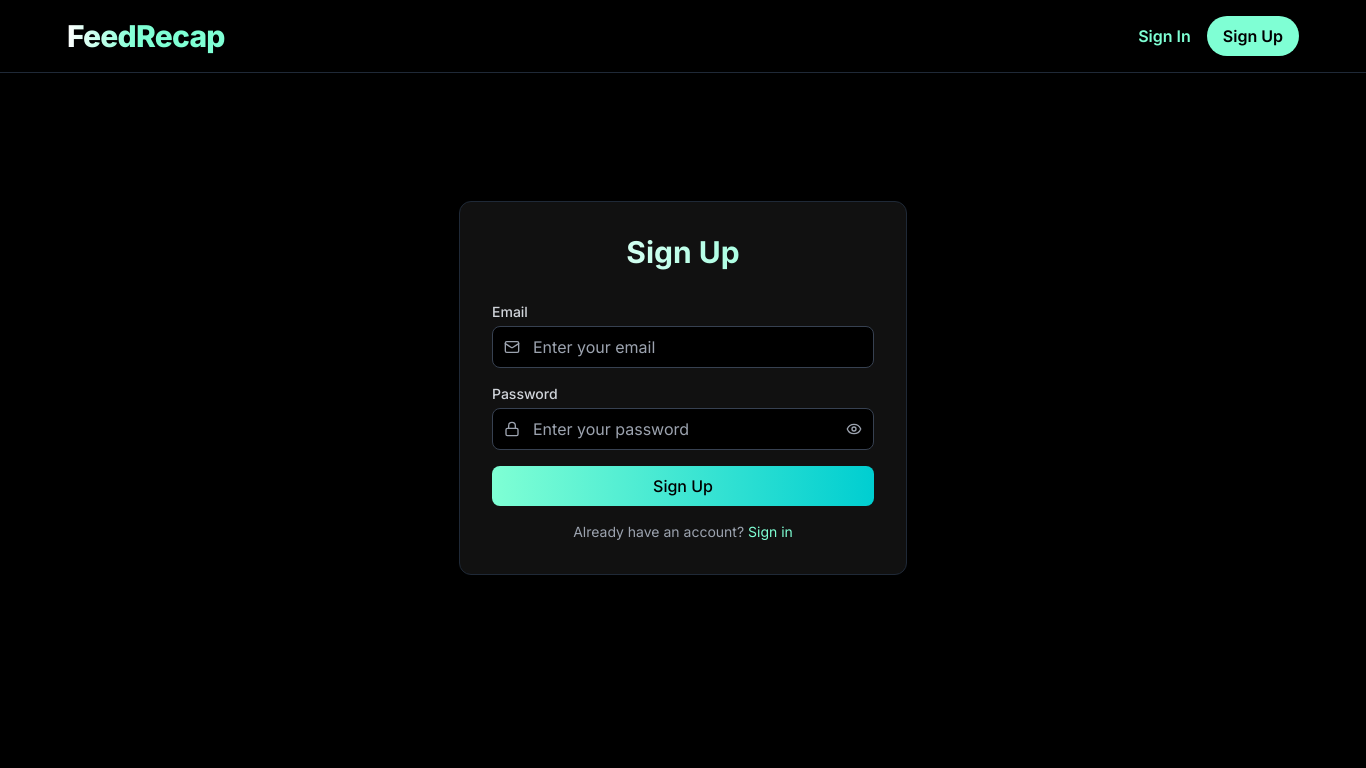
Test: Signup page › shows an already-registered error for an existing email
Step 1. Type "existing@example.com" into the field with placeholder "Enter your email" → (683, 347), box [492,326,874,368]
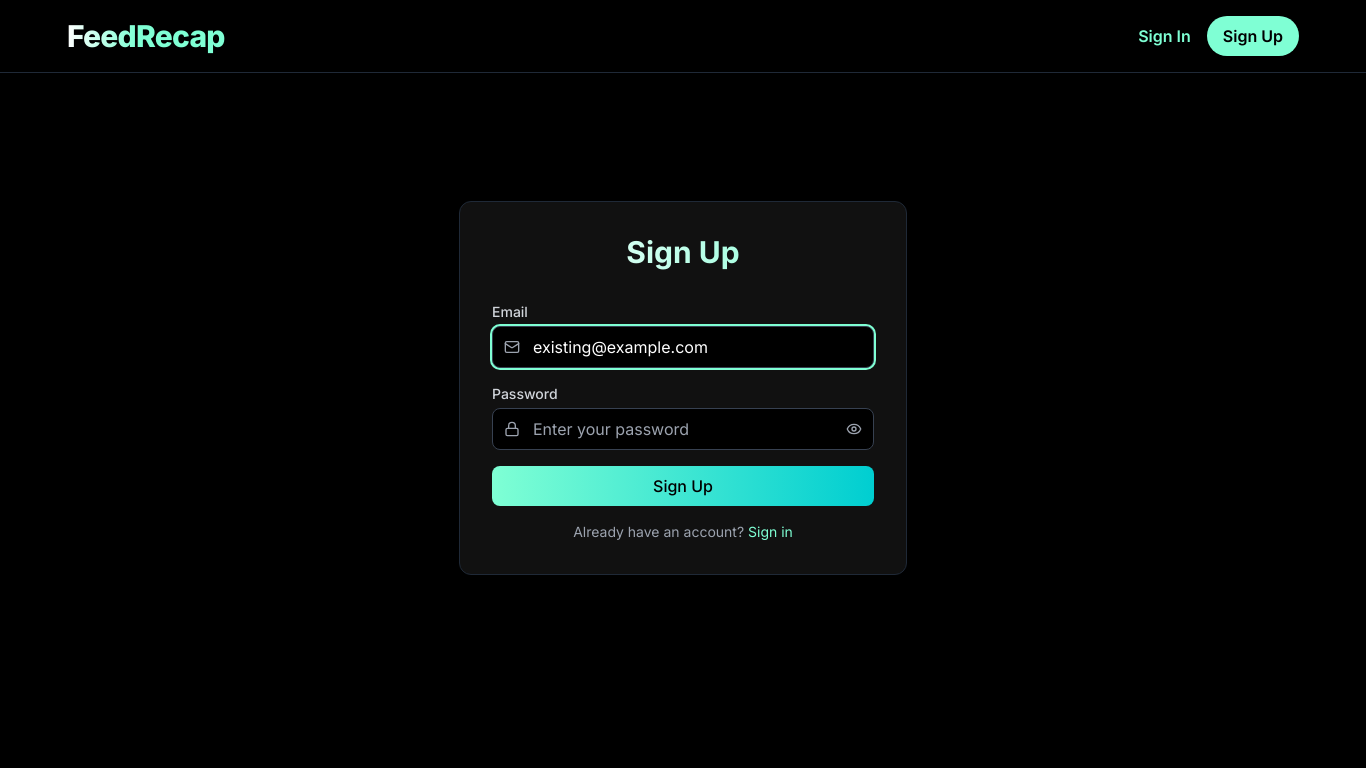
Step 2. Type "password123" into the password field with placeholder "Enter your password" → (683, 429), box [492,408,874,450]
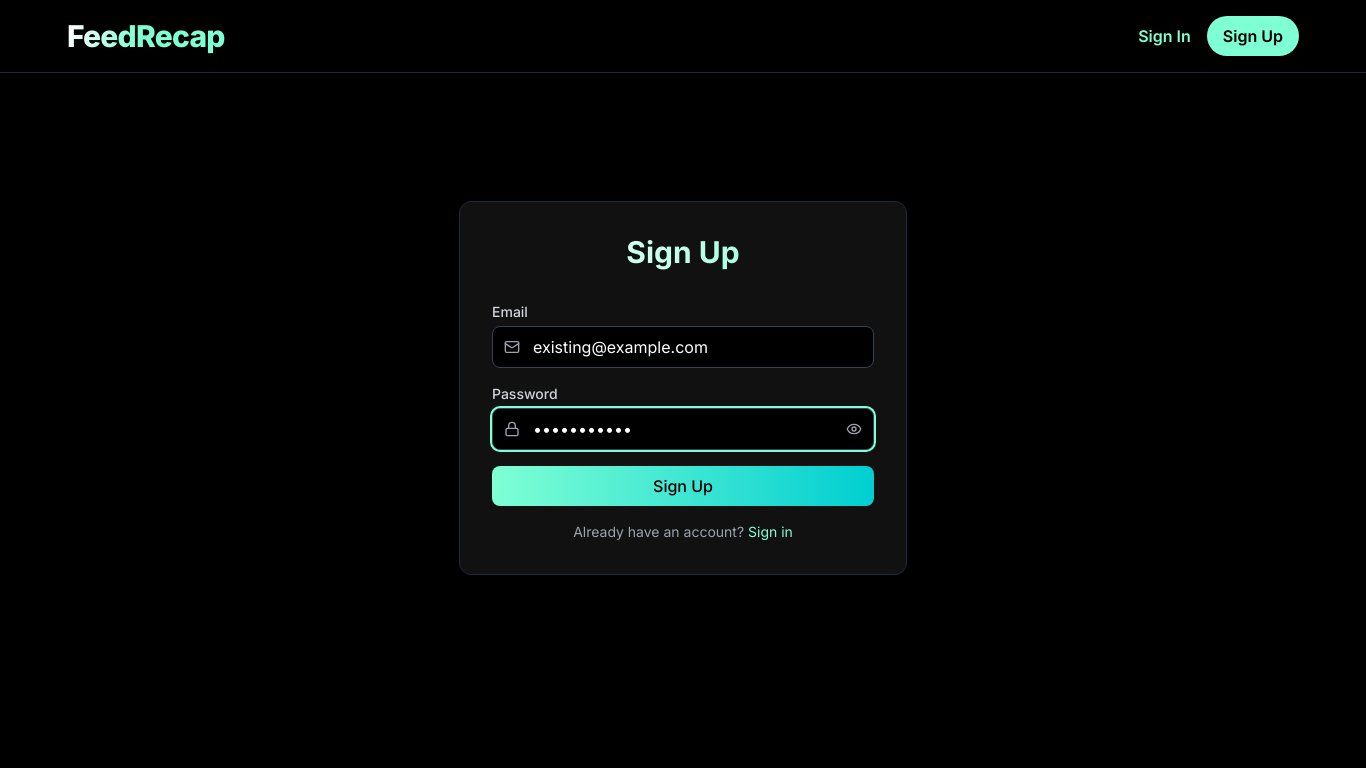
Step 3. Click the button "Sign Up" below "Password" → (683, 486), box [492,466,874,506]
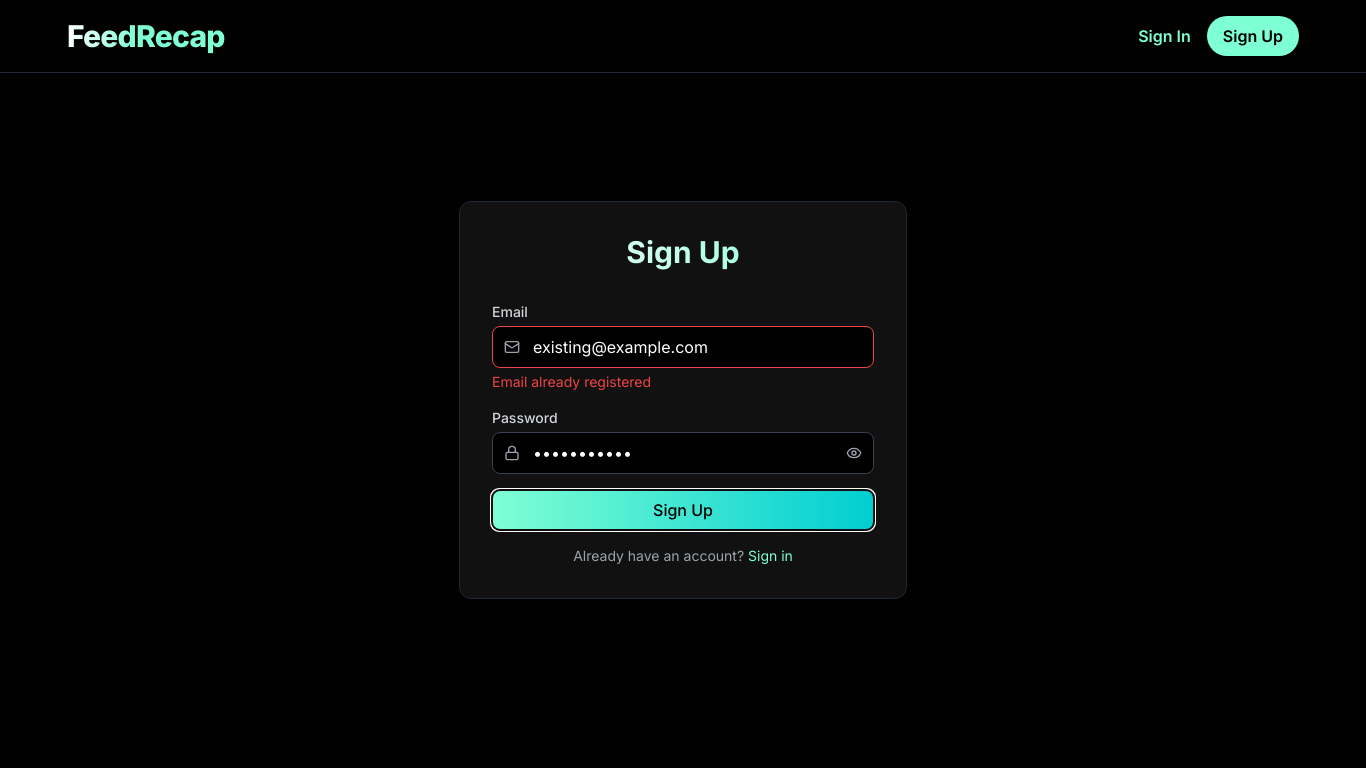
expect the text "Email already registered" is shown: met, box [492,373,651,390]
